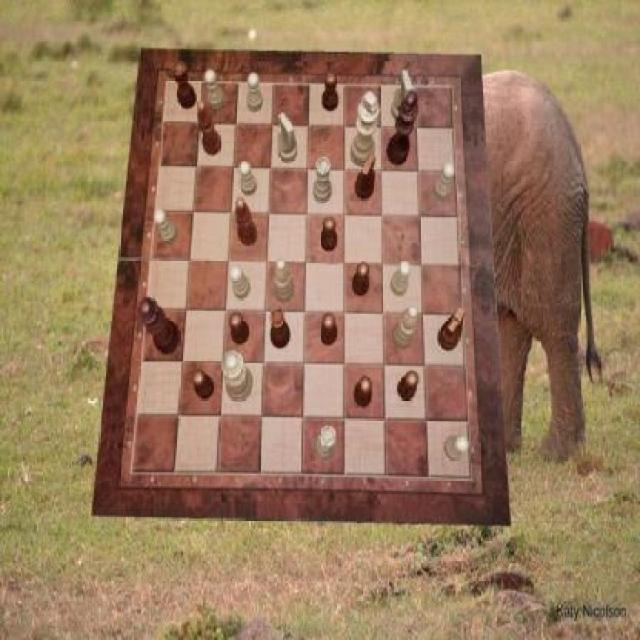bishop: (197, 102, 221, 156), (235, 197, 258, 246)
black-bishop: (386, 91, 419, 165)
black-king: (439, 308, 466, 352), (356, 154, 376, 200)
black-knight: (192, 369, 215, 400), (397, 371, 419, 402), (323, 74, 340, 112), (229, 314, 249, 346), (352, 262, 370, 296), (320, 217, 338, 251), (320, 314, 338, 346), (354, 377, 371, 409)
black-pawn: (137, 297, 180, 355)
black-queen: (172, 60, 197, 109), (270, 308, 292, 349)
black-rook: (392, 306, 418, 350), (276, 258, 296, 304)
white-bishop: (351, 91, 380, 165)
white-king: (391, 69, 412, 123), (278, 112, 298, 163)
white-knight: (432, 163, 455, 201), (154, 209, 178, 244), (206, 71, 226, 111), (230, 265, 252, 299), (391, 260, 411, 296), (238, 162, 258, 196), (248, 72, 264, 112), (445, 435, 469, 461)
white-pawn: (221, 351, 254, 403)
white-queen: (313, 157, 332, 203), (315, 426, 338, 460)
